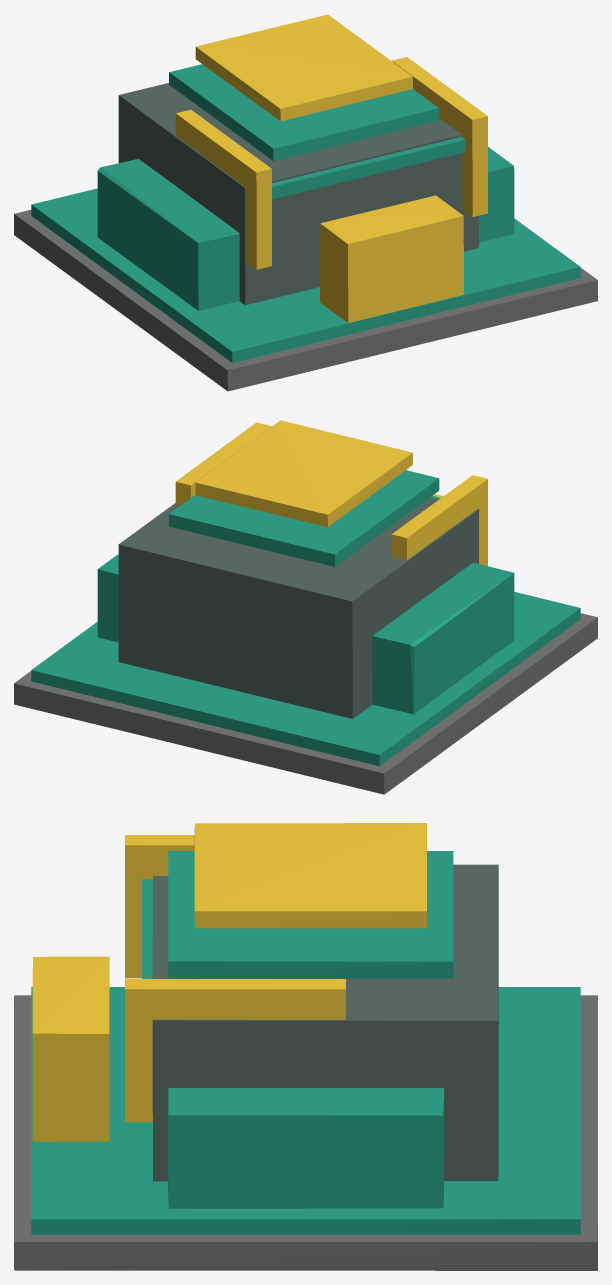
File: SM_Coalition_CO_Barracks_LOD3.fbx
3 views of the same model, one above another, from view 1: azimuth 30°, elevation 25°; view 2: azimuth 150°, elevation 25°; view 3: azimuth 270°, elevation 25° (orthographic). The views are drawn at different scales.
Visible parts, largest first — view 1: LOD03_SM_Coalition_CO_Barracks; view 2: LOD03_SM_Coalition_CO_Barracks; view 3: LOD03_SM_Coalition_CO_Barracks.
Part boxes in pixels (x1,y1,x2,y2): LOD03_SM_Coalition_CO_Barracks: [14, 14, 597, 391]; LOD03_SM_Coalition_CO_Barracks: [14, 420, 597, 794]; LOD03_SM_Coalition_CO_Barracks: [14, 823, 597, 1270].
Bounding box in the file's own units: 597 × 597 × 316.
